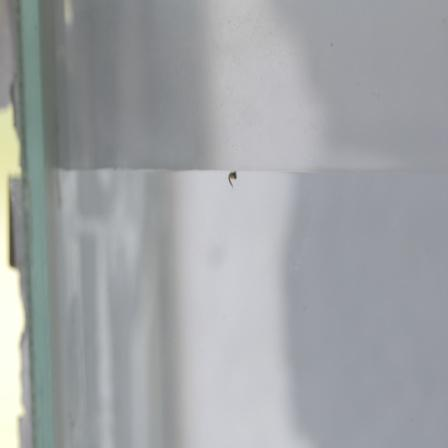Jentik-Nyamuk: (224, 168, 241, 190)
